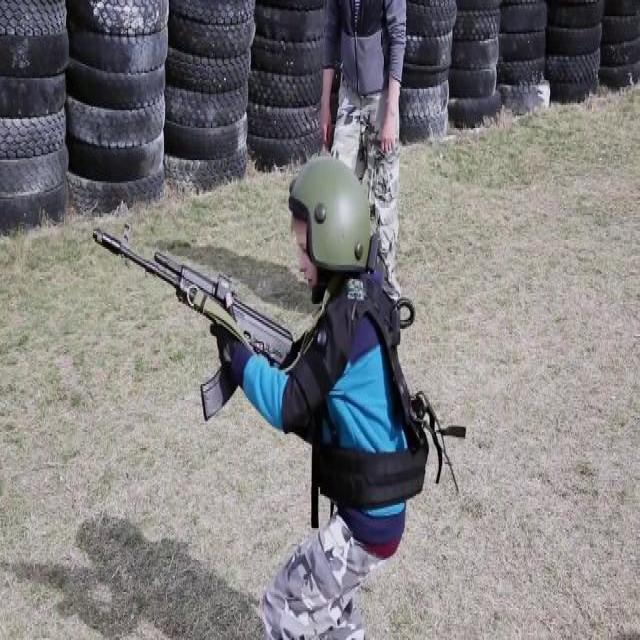pistol: (89, 215, 304, 432)
